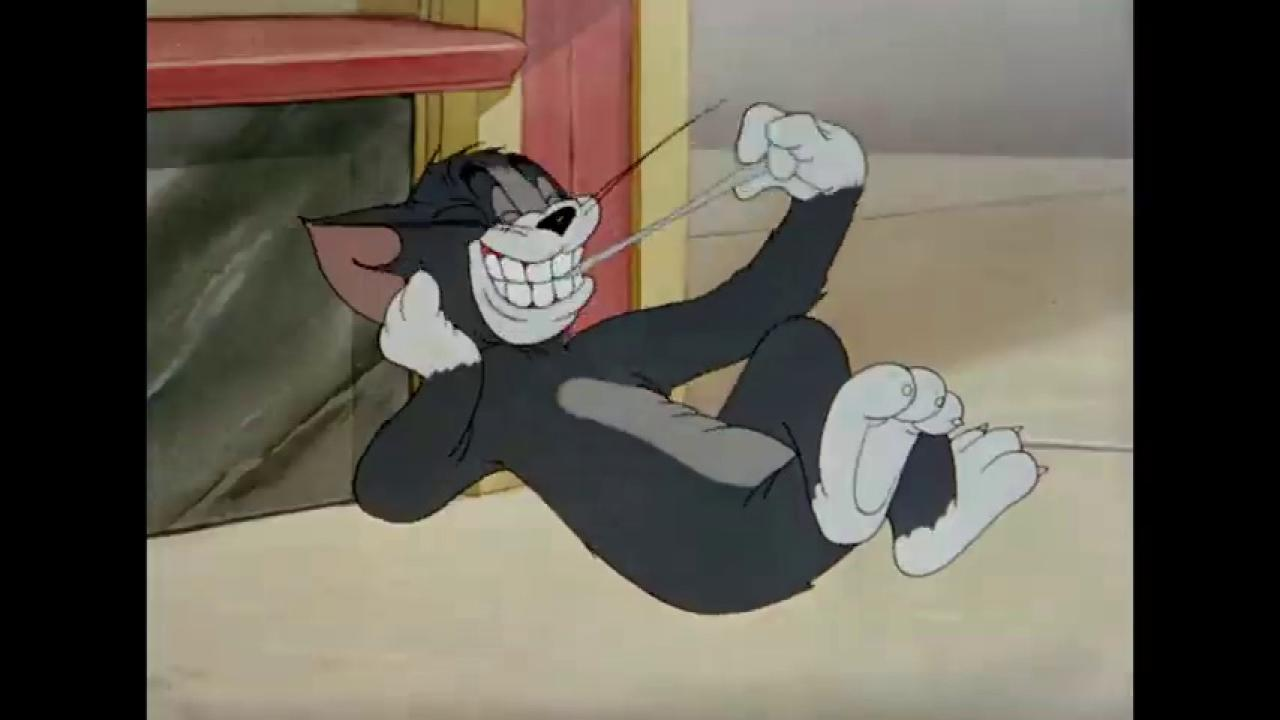Tom: (292, 100, 1049, 615)
